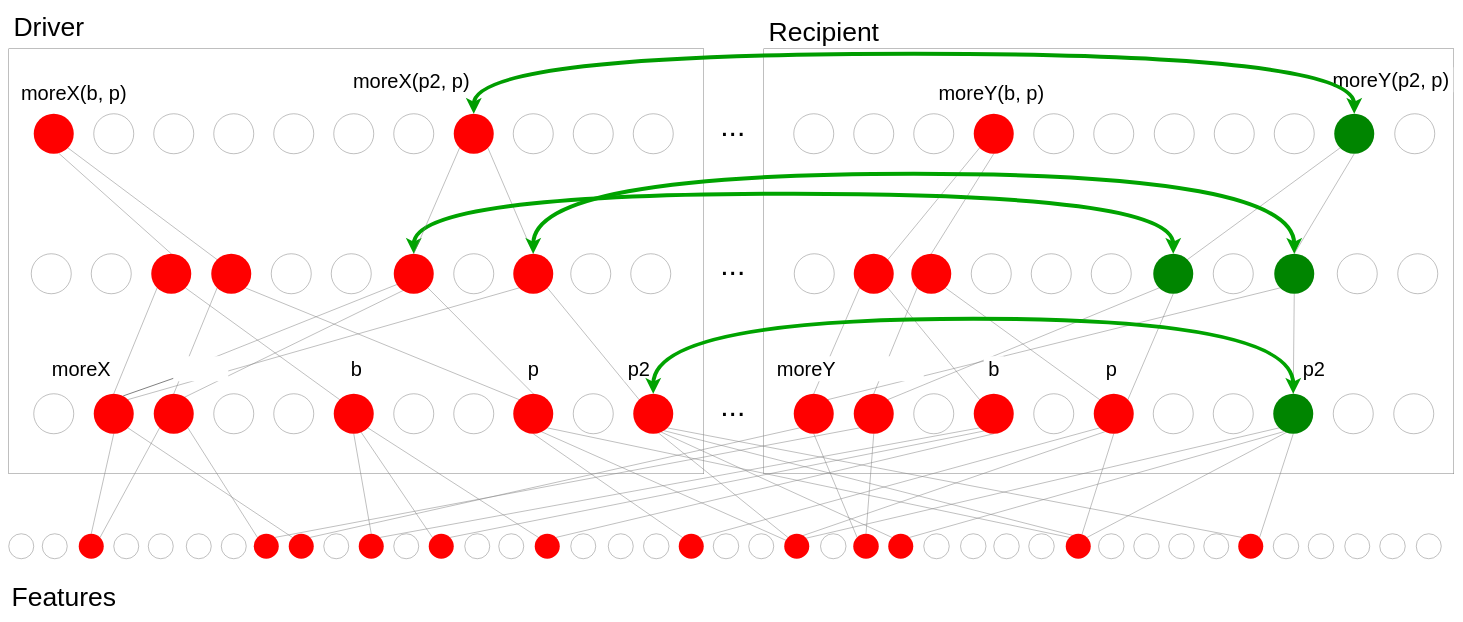
This 1463x622 diagram has some shape labels left out. Each missing label, with the centre of its shape:
"lessX" belongs at point (200, 368).
"lessY" belongs at point (896, 368).
